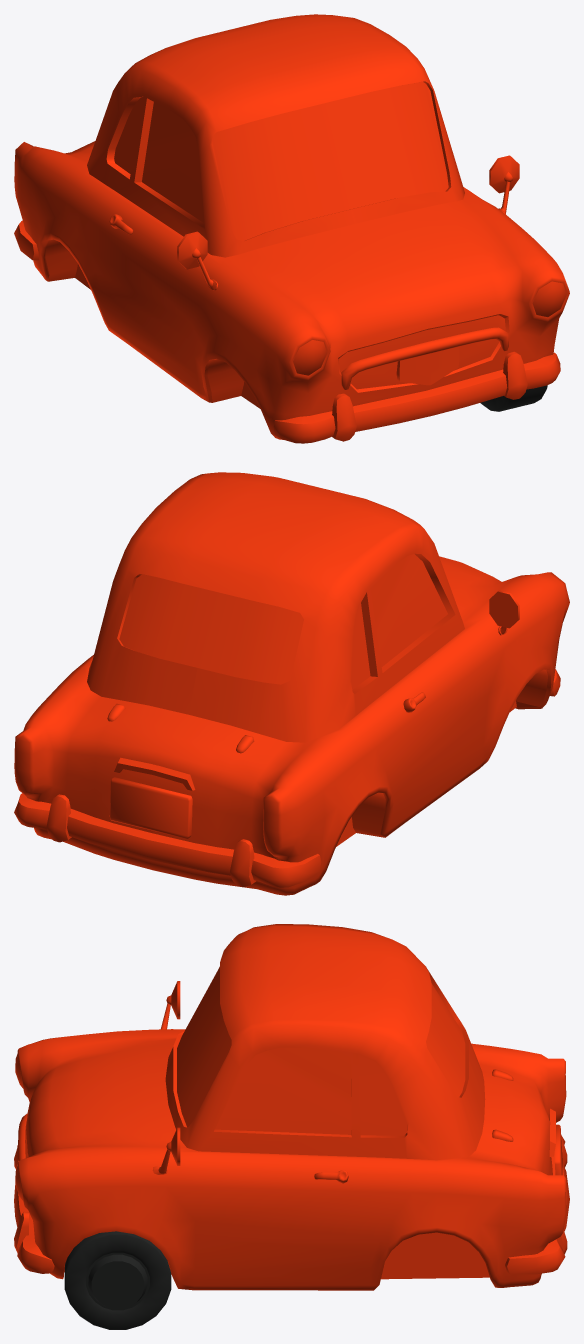
Rendered from Car_Realistic.fbx.
The picture shows the model from 3 angles, top to bottom: view 1: azimuth 30°, elevation 25°; view 2: azimuth 150°, elevation 25°; view 3: azimuth 270°, elevation 25°; orthographic projection. The views are drawn at different scales.
Parts seen in each view (by area): view 1: Car_Ready, Wheel_FL; view 2: Car_Ready; view 3: Car_Ready, Wheel_FL.
Boxes of the visible parts, bbox=[...] form: Car_Ready: bbox=[14, 14, 569, 443]; Wheel_FL: bbox=[480, 385, 547, 411]; Car_Ready: bbox=[14, 472, 569, 895]; Car_Ready: bbox=[14, 924, 569, 1290]; Wheel_FL: bbox=[64, 1231, 171, 1329].
Size of the model in its own units: 0.5685 by 0.4942 by 0.8353.
